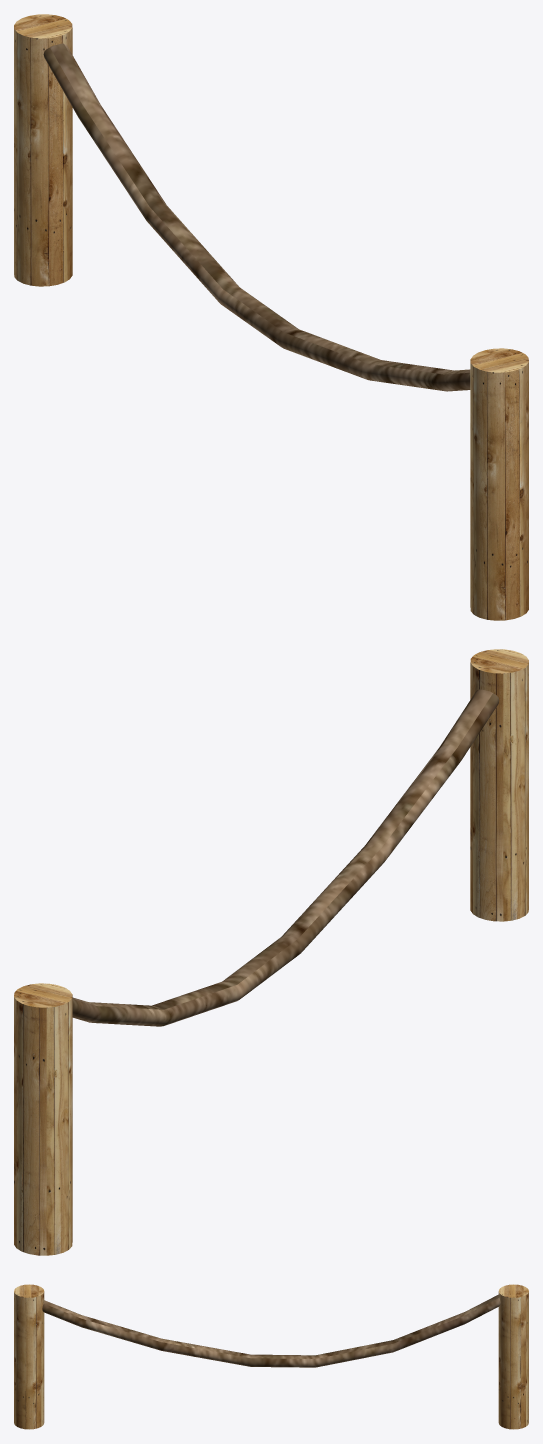
Rendered from fence2.fbx.
3 views of the same model, one above another, from view 1: azimuth 30°, elevation 25°; view 2: azimuth 150°, elevation 25°; view 3: azimuth 270°, elevation 25° (orthographic). The views are drawn at different scales.
Visible parts, largest first — view 1: pCylinder1, pCylinder2, pCylinder7; view 2: pCylinder2, pCylinder1, pCylinder7; view 3: pCylinder7, pCylinder1, pCylinder2.
Boxes of the visible parts, x1,y1,x2,y2 form: pCylinder1: (470, 348, 528, 620); pCylinder2: (14, 14, 72, 286); pCylinder7: (43, 43, 470, 391); pCylinder2: (14, 983, 72, 1255); pCylinder1: (470, 649, 528, 921); pCylinder7: (72, 689, 499, 1026); pCylinder7: (42, 1294, 500, 1367); pCylinder1: (14, 1284, 44, 1429); pCylinder2: (498, 1284, 528, 1429).
Bounding box in the file's own units: 0.8827 × 4.06 × 14.39.
2 materials, 2 textured.
